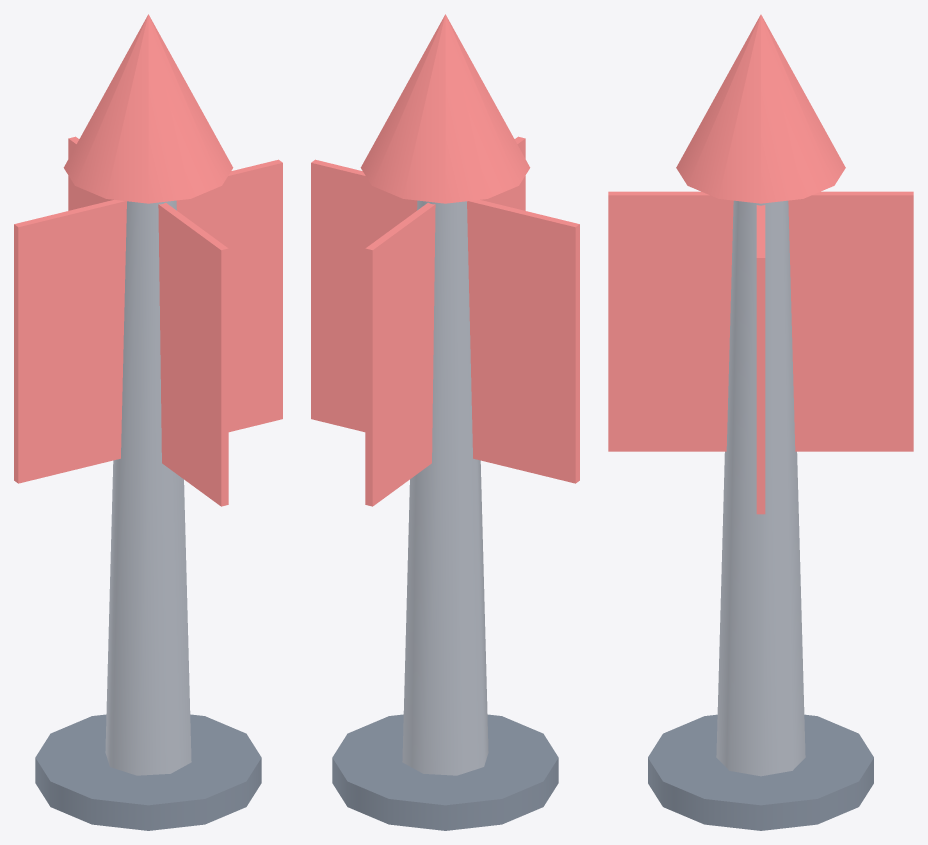
The model's file is jammer.glb.
The picture shows the model from 3 angles, left to right: view 1: azimuth 30°, elevation 25°; view 2: azimuth 150°, elevation 25°; view 3: azimuth 270°, elevation 25°; orthographic projection.
Bounding box in the file's own units: 0.54 × 1.5 × 0.54.
